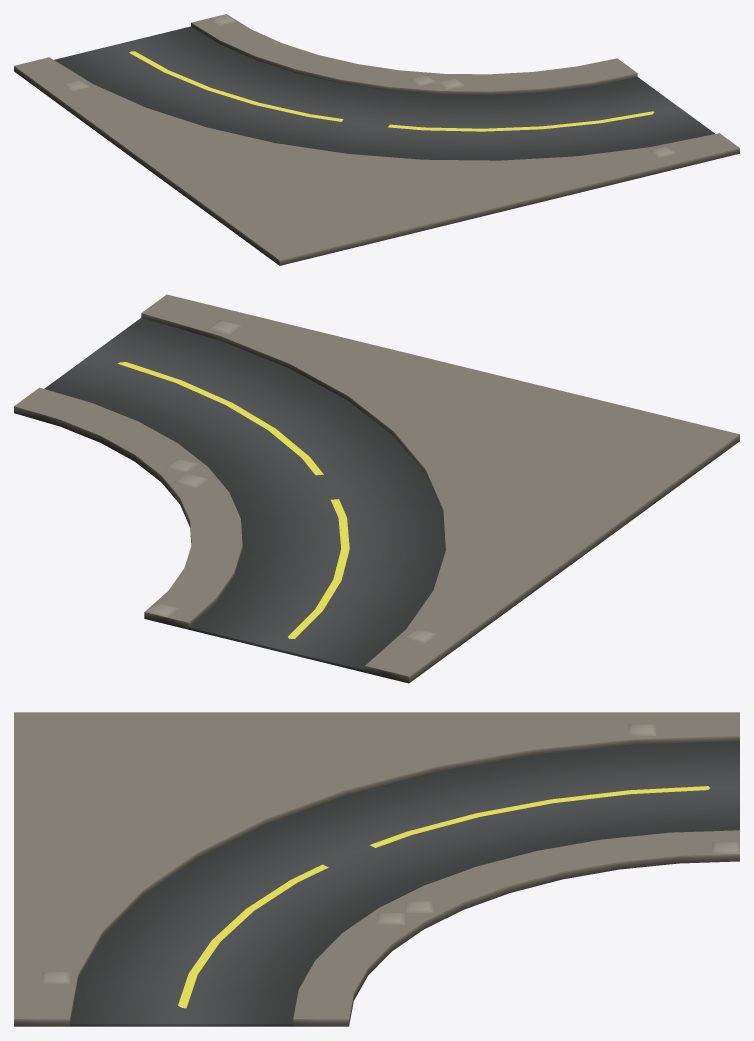
File: Road_1V.fbx
3 views of the same model, one above another, from view 1: azimuth 30°, elevation 25°; view 2: azimuth 150°, elevation 25°; view 3: azimuth 270°, elevation 25° (orthographic). The views are drawn at different scales.
Visible parts, largest first — view 1: Road_1V; view 2: Road_1V; view 3: Road_1V.
Boxes of the visible parts, box(x1,y1,x2,y2) form: Road_1V: box(14, 14, 739, 265); Road_1V: box(14, 294, 739, 683); Road_1V: box(14, 712, 739, 1026).
Bounding box in the file's own units: 26 × 0.3565 × 26.
